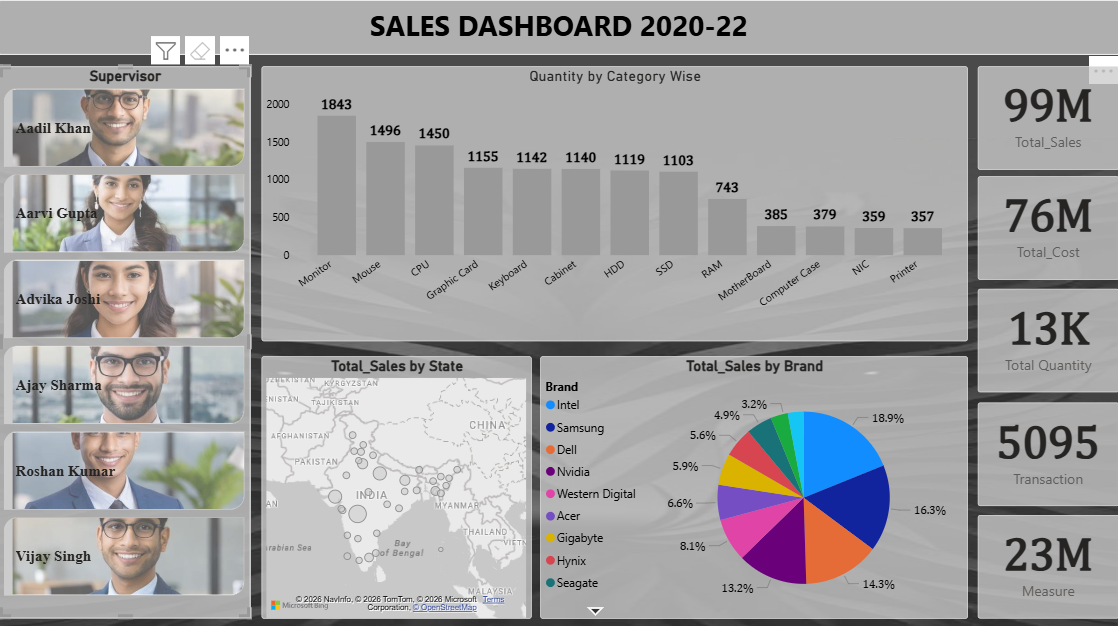

The page's visual inventory and layout, read from the dashboard file:
{"tool":"powerbi","page":{"name":"Page 1","canvas":[1280,720],"ordinal":0},"visuals":[{"type":"textbox","box":[0,0,1280,62.7],"z":0},{"type":"card","fields":{"Values":["Sum(Sales_Data.Total_Sales)"]},"box":[1118.4,75.5,161.9,118],"z":1000},{"type":"card","fields":{"Values":["Sum(Sales_Data.Total_Cost)"]},"box":[1118.4,201.7,161.9,118],"z":2000},{"type":"card","fields":{"Values":["Sum(Sales_Data.Quantity)"]},"box":[1118.4,330.7,161.9,118],"z":3000},{"type":"card","fields":{"Values":["CountNonNull(Sales_Data.Order_Number)"]},"box":[1118.4,459.7,161.9,118],"z":4000},{"type":"card","fields":{"Values":["Sales_Data.Measure"]},"box":[1118.4,588.7,161.9,118],"z":5000},{"type":"clusteredColumnChart","title":"Quantity by Category Wise","fields":{"Category":["Sales_Data.Category"],"Y":["Sum(Sales_Data.Quantity)"]},"box":[300,75.7,807.1,314.3],"z":6000},{"type":"pieChart","title":"Total_Sales by Brand","fields":{"Y":["Sum(Sales_Data.Total_Sales)"],"Category":["Sales_Data.Brand"]},"box":[618.6,407.1,488.6,300],"z":7000},{"type":"map","title":"Total_Sales by State","fields":{"Size":["Sum(Sales_Data.Total_Sales)"],"Category":["State_list.State"]},"box":[300,407.1,308.6,300],"z":8000},{"type":"advancedSlicerVisual","fields":{"Values":["Supervisor.Supervisor"]},"box":[0,75.7,287.1,631.4],"z":9000}]}

Visuals, with their boxes in screenshot pixels (x1, y1, x2, y2), scaled from the page's 1280x720 canvas onto the 1118x626 screenshot:
textbox: bbox=[0, 0, 1117, 55]
card - Sum(Sales_Data.Total_Sales): bbox=[977, 66, 1117, 168]
card - Sum(Sales_Data.Total_Cost): bbox=[977, 175, 1117, 278]
card - Sum(Sales_Data.Quantity): bbox=[977, 288, 1117, 390]
card - CountNonNull(Sales_Data.Order_Number): bbox=[977, 400, 1117, 502]
card - Sales_Data.Measure: bbox=[977, 512, 1117, 614]
"Quantity by Category Wise" clusteredColumnChart: bbox=[262, 66, 967, 339]
"Total_Sales by Brand" pieChart: bbox=[540, 354, 967, 615]
"Total_Sales by State" map: bbox=[262, 354, 532, 615]
advancedSlicerVisual - Supervisor.Supervisor: bbox=[0, 66, 251, 615]
